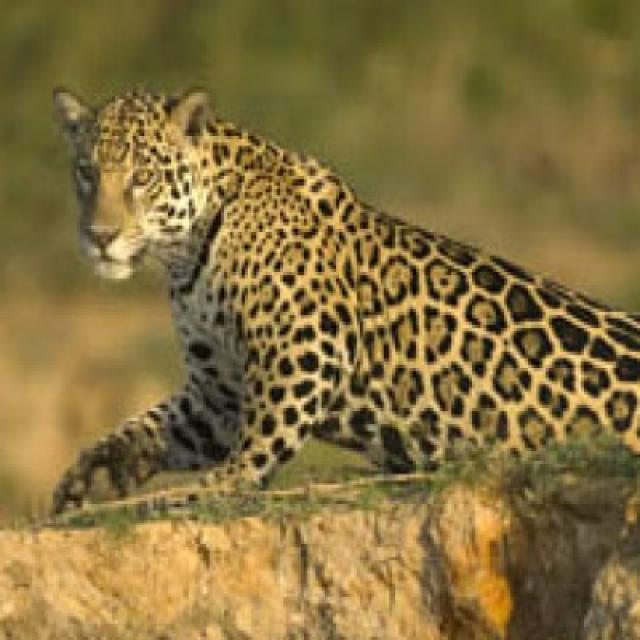Jaguar: (51, 86, 638, 512)
